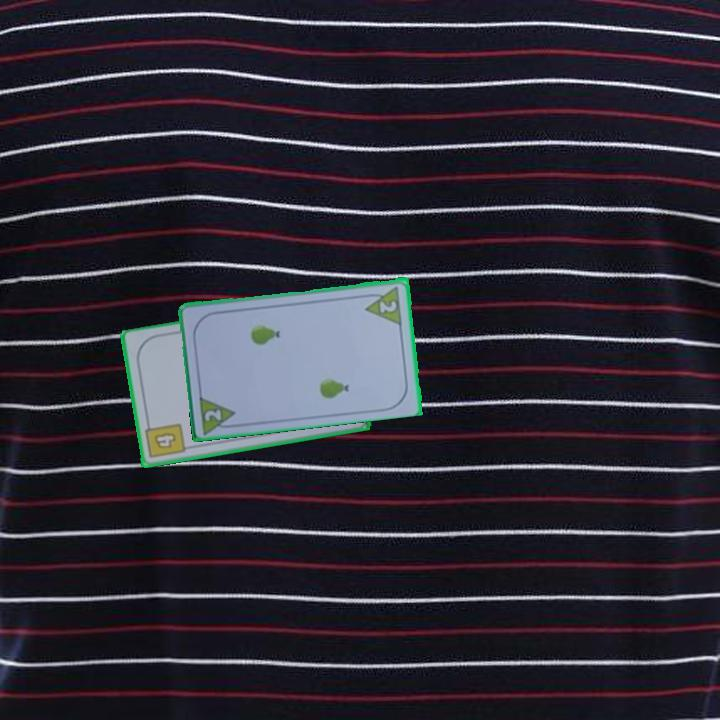2p: (376, 297, 400, 316), (201, 406, 225, 424)
4b: (142, 418, 188, 462)
